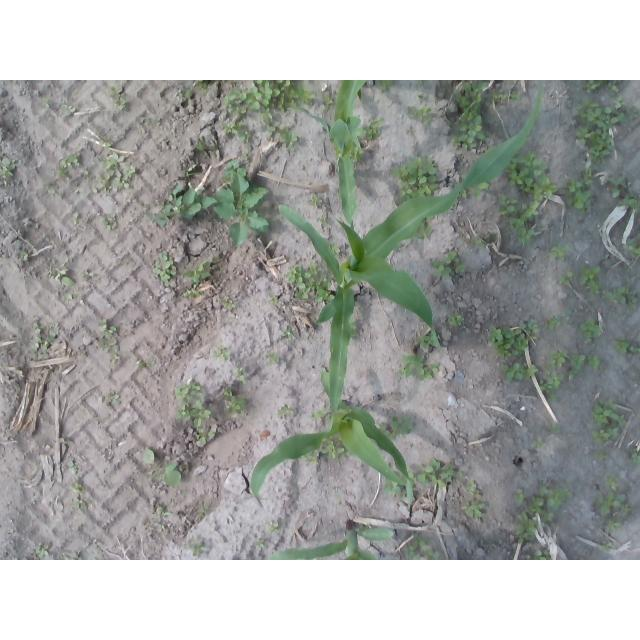Maize: (279, 86, 542, 336), (250, 284, 415, 504), (289, 80, 361, 229), (263, 524, 397, 560)
Weeds: (213, 173, 270, 248), (572, 97, 619, 167), (451, 81, 490, 152), (504, 151, 557, 202), (390, 156, 438, 204), (498, 195, 539, 246), (489, 318, 540, 358), (164, 183, 217, 220), (287, 262, 334, 303), (515, 496, 554, 543), (255, 80, 300, 118), (592, 398, 627, 442), (143, 447, 182, 486), (174, 380, 211, 421), (417, 456, 464, 488), (97, 153, 136, 190), (565, 169, 594, 215), (607, 175, 640, 215), (223, 85, 262, 116), (29, 321, 58, 360), (398, 354, 439, 380), (430, 250, 466, 278), (405, 533, 442, 560), (376, 414, 412, 441), (602, 286, 640, 310), (595, 491, 632, 515), (151, 250, 177, 283), (539, 370, 564, 403), (321, 435, 352, 461), (538, 486, 571, 510), (460, 174, 491, 199), (578, 266, 603, 295), (501, 363, 540, 381), (222, 387, 246, 414), (184, 261, 211, 284), (193, 416, 215, 444), (279, 124, 302, 149), (108, 85, 129, 112), (414, 215, 436, 240), (222, 161, 247, 182), (580, 317, 602, 340), (407, 104, 432, 124), (612, 338, 640, 355), (462, 500, 487, 519), (364, 117, 385, 139), (195, 136, 217, 157), (144, 209, 168, 228), (620, 97, 639, 121), (51, 268, 75, 287), (312, 404, 333, 425), (568, 354, 586, 378), (546, 349, 568, 368), (184, 540, 208, 557), (490, 90, 523, 102), (298, 82, 314, 106), (414, 332, 436, 349), (97, 319, 116, 338), (383, 475, 402, 494), (300, 448, 320, 466), (550, 244, 571, 261), (1, 157, 16, 180), (98, 214, 118, 231), (400, 466, 416, 487), (222, 120, 244, 135), (526, 548, 552, 560), (181, 284, 203, 298), (212, 347, 232, 362), (98, 342, 120, 355), (464, 481, 480, 498), (277, 403, 296, 417), (605, 517, 624, 531), (321, 92, 334, 112), (545, 314, 561, 330), (448, 311, 465, 326), (262, 117, 276, 135), (58, 161, 71, 180), (234, 365, 247, 384), (349, 317, 360, 339), (628, 237, 640, 257), (585, 80, 605, 92), (602, 475, 618, 490), (376, 81, 397, 92), (559, 272, 574, 287), (309, 193, 324, 208), (281, 327, 296, 342), (587, 355, 602, 370), (511, 487, 525, 503), (196, 80, 209, 97), (220, 297, 237, 310), (43, 181, 58, 195), (265, 351, 280, 365), (350, 145, 363, 161), (153, 507, 171, 518), (61, 104, 76, 117), (329, 241, 342, 256), (69, 482, 84, 495), (178, 88, 194, 100), (630, 447, 640, 466), (546, 424, 563, 435), (268, 520, 281, 534), (73, 498, 87, 511), (36, 544, 49, 557), (237, 131, 251, 143), (67, 460, 77, 476), (68, 154, 81, 166), (607, 82, 620, 94), (108, 393, 121, 405), (187, 163, 198, 177), (101, 135, 112, 149), (476, 234, 487, 247), (531, 438, 545, 448), (269, 294, 280, 306), (601, 540, 612, 551), (72, 211, 80, 226), (595, 450, 605, 462), (20, 249, 29, 261), (82, 270, 95, 278), (139, 362, 152, 370), (42, 96, 50, 109), (65, 293, 74, 304), (198, 505, 207, 516), (65, 556, 84, 561), (94, 538, 103, 547), (255, 540, 265, 548), (83, 169, 90, 180), (243, 148, 249, 160), (320, 214, 329, 222), (418, 93, 426, 100), (335, 492, 341, 499)
